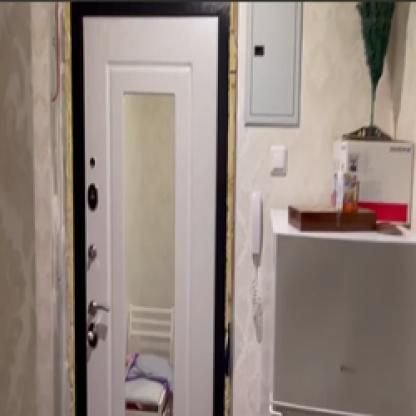Door: (73, 5, 226, 416)
